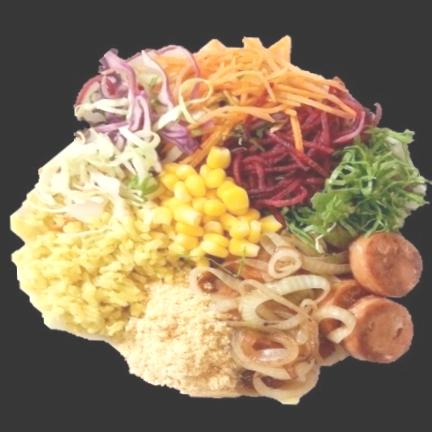carrot: (146, 41, 335, 144)
corn: (135, 147, 282, 270)
rice: (17, 191, 187, 347)
salad: (31, 52, 210, 222)
sausage: (198, 226, 428, 406)
